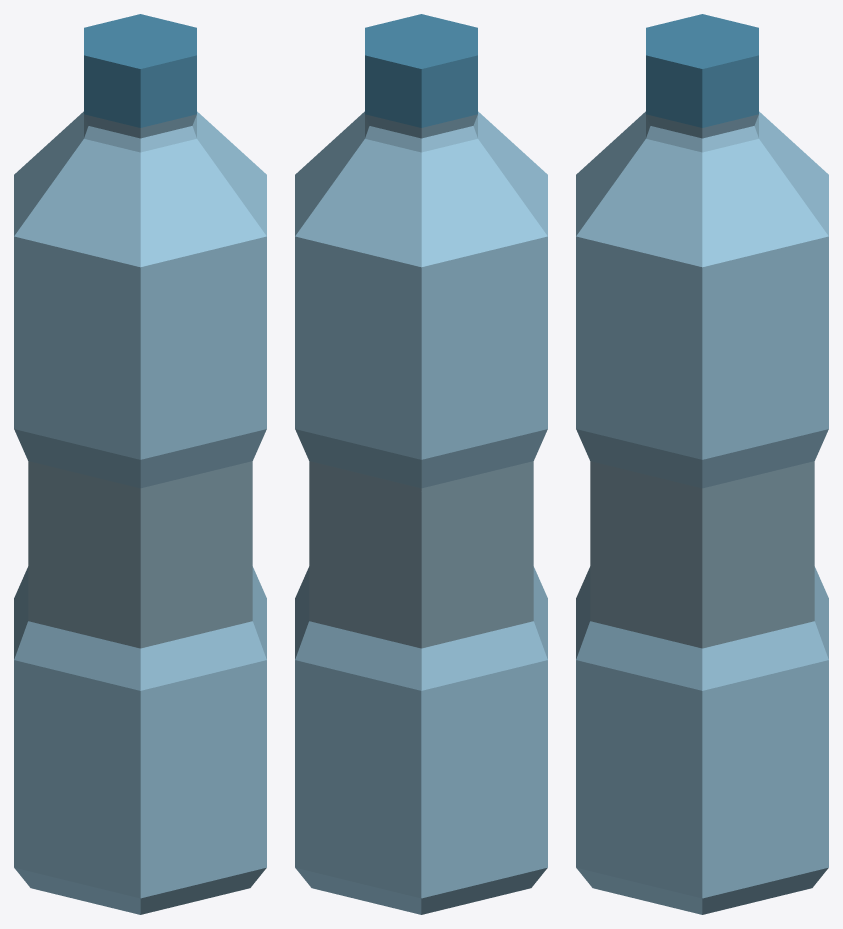
The model's file is BottleOfWater.FBX.
The picture shows the model from 3 angles, left to right: view 1: azimuth 30°, elevation 25°; view 2: azimuth 150°, elevation 25°; view 3: azimuth 270°, elevation 25°; orthographic projection.
Visible parts, largest first — view 1: BottleOfWater; view 2: BottleOfWater; view 3: BottleOfWater.
Boxes of the visible parts, box(x1,y1,x2,y2) form: BottleOfWater: box(14, 14, 266, 914); BottleOfWater: box(295, 14, 547, 914); BottleOfWater: box(576, 14, 828, 914).
Size of what is drawn, in the model's own units: 31.91 by 27.64 by 98.96.
